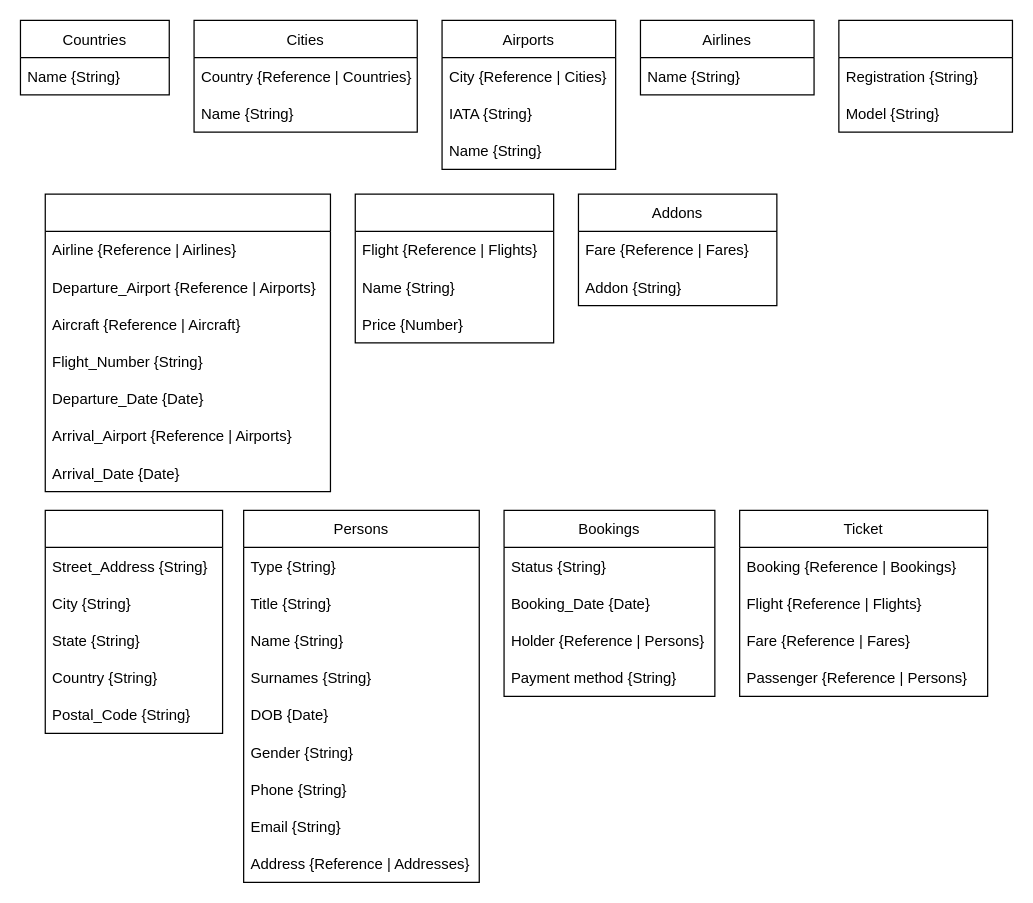
Some shapes in this 1033 by 903 pixel diagram are drawn without their labels. The box of each missing label's shape, as (x1, y1, x2, y2) in pixels:
Addresses: (44, 509, 223, 733)
Aircrafts: (838, 19, 1012, 132)
Fares: (354, 193, 554, 343)
Flights: (44, 193, 330, 492)
